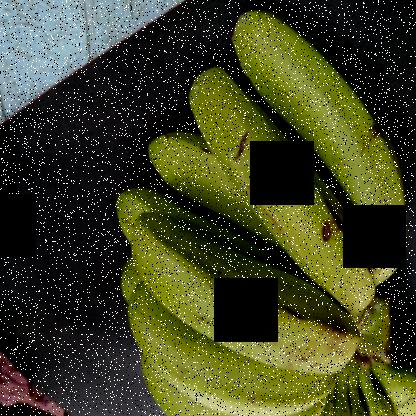freshunripe: (226, 1, 410, 284), (124, 298, 331, 415), (145, 356, 334, 415)
unripe: (182, 64, 382, 314), (127, 197, 363, 382)
